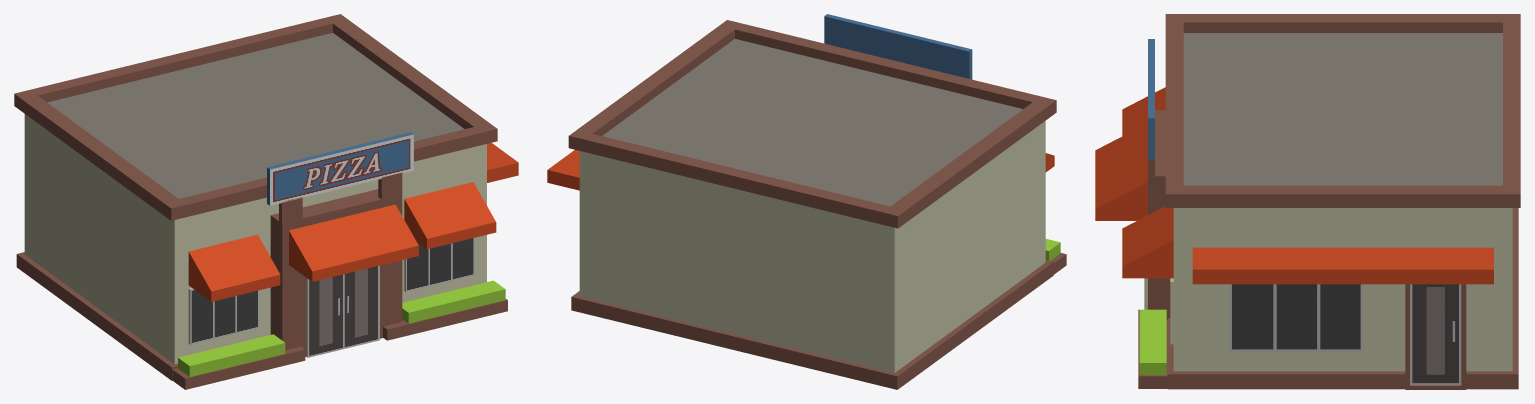
File: building-pizza.glb
3 renders of one model, left to right at view 1: azimuth 30°, elevation 25°; view 2: azimuth 150°, elevation 25°; view 3: azimuth 270°, elevation 25°, orthographic. The views are drawn at different scales.
Visible parts, largest first — view 1: model; view 2: model; view 3: model.
Part boxes in pixels (x1,y1,x2,y2): model: (14,14,518,389); model: (547,14,1066,389); model: (1095,14,1520,389).
Bounding box in the file's own units: 14.97 × 7.8 × 13.57.
1 material, 1 textured.
